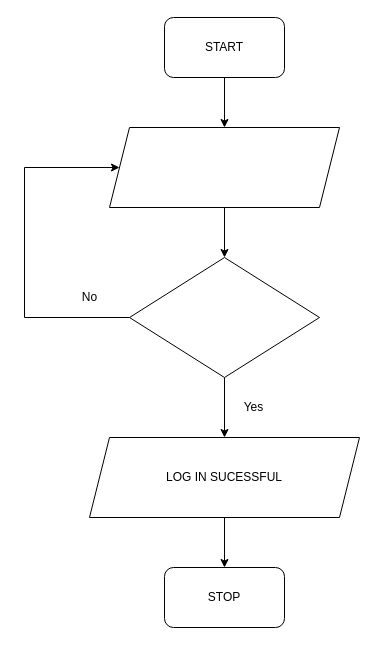
Some shapes in this 377 by 645 pixel diagram are drawn without their labels. Here are the shapes that lost their labels. From the top down, the centre of each, then its label:
the point at 224,167: ENTER USERNAME & PASSWORD
the point at 224,317: PASSWORD IS CORRECT
